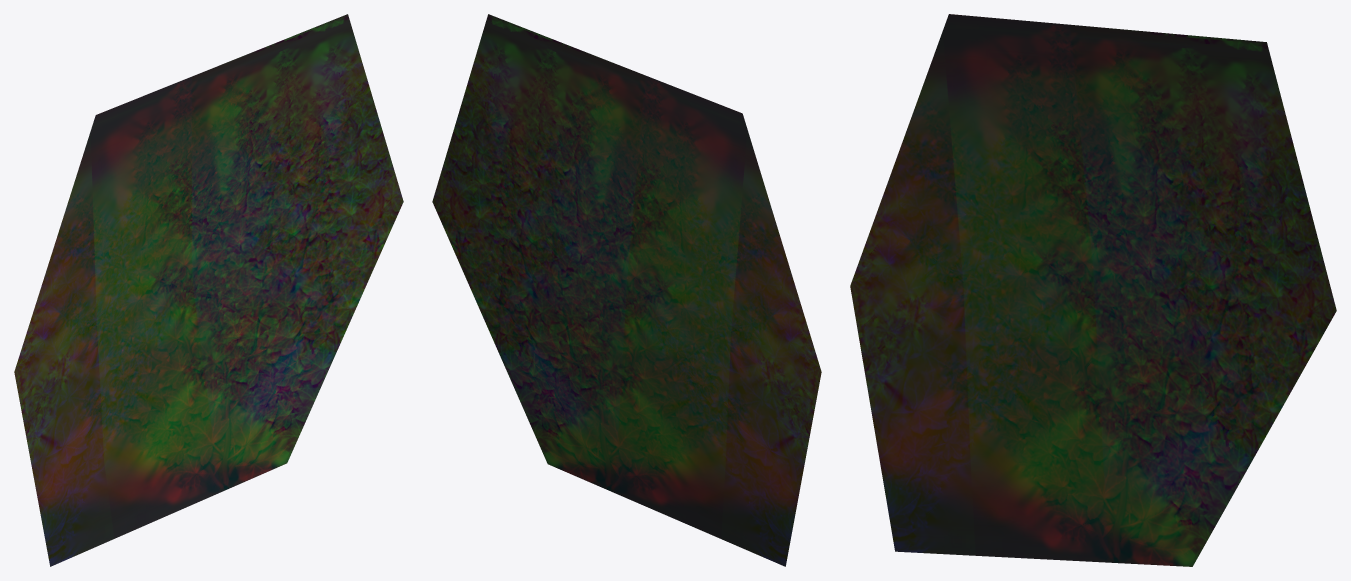
The model's file is Ivy_Flat_A.fbx.
3 views of the same model, side by side, from view 1: azimuth 30°, elevation 25°; view 2: azimuth 150°, elevation 25°; view 3: azimuth 330°, elevation 25° (orthographic). The views are drawn at different scales.
Visible parts, largest first — view 1: ivy_flat; view 2: ivy_flat; view 3: ivy_flat.
Boxes of the visible parts, <box> form: ivy_flat: <box>14,14,403,566</box>; ivy_flat: <box>432,14,821,566</box>; ivy_flat: <box>850,14,1336,566</box>.
Bounding box in the file's own units: 1.97 × 2.32 × 0.0879.
